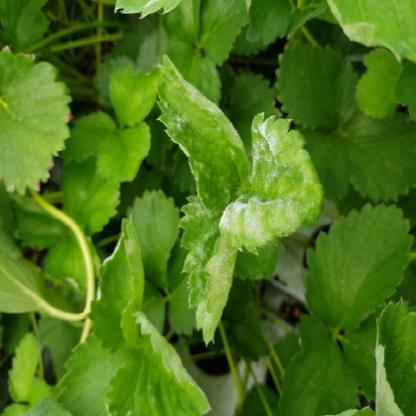Strawberry_Powdery_Mildew_Leaf: (154, 53, 251, 228), (218, 111, 326, 255), (178, 194, 238, 346), (375, 296, 415, 415)
